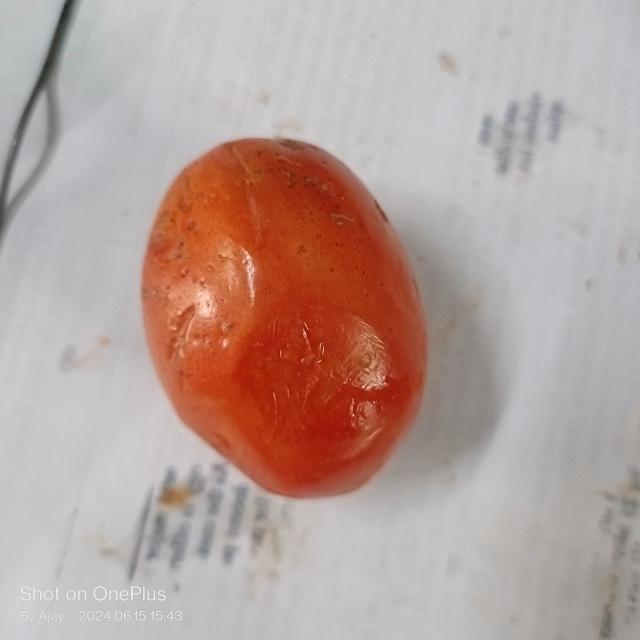Botrytis: (274, 327, 388, 472), (161, 218, 250, 335)
